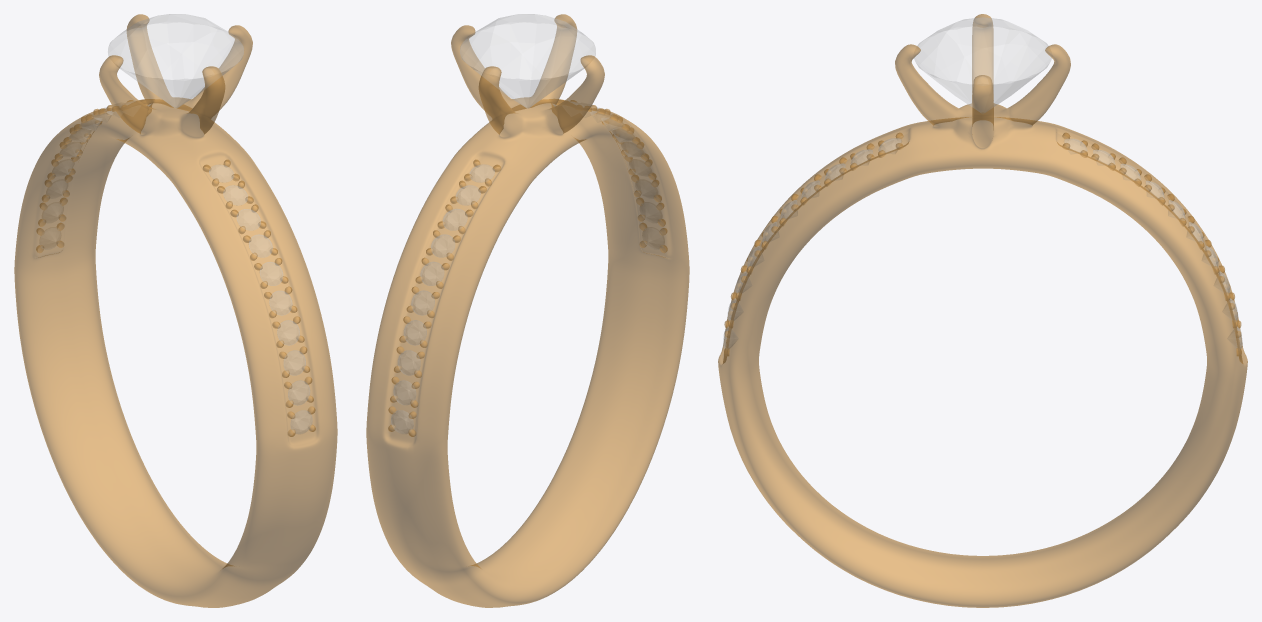
The picture shows the model from 3 angles, left to right: view 1: azimuth 30°, elevation 25°; view 2: azimuth 150°, elevation 25°; view 3: azimuth 270°, elevation 25°; orthographic projection.
Parts seen in each view (by area): view 1: VR002S/BD; view 2: VR002S/BD; view 3: VR002S/BD.
Part boxes in pixels (left/top/right/bottom): VR002S/BD: left=14, top=14, right=337, bottom=607; VR002S/BD: left=366, top=14, right=689, bottom=607; VR002S/BD: left=718, top=14, right=1247, bottom=607.
Bounding box in the file's own units: 0.7791 × 2.76 × 2.34.
